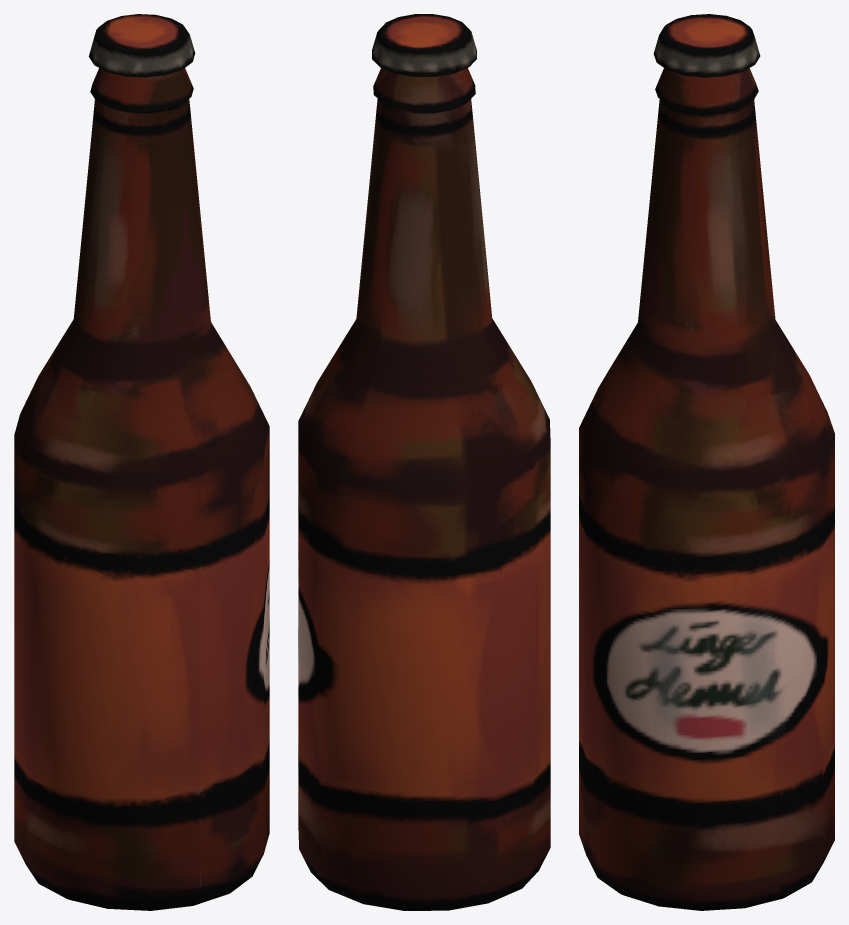
File: beer.glb
3 views of the same model, side by side, from view 1: azimuth 30°, elevation 25°; view 2: azimuth 150°, elevation 25°; view 3: azimuth 270°, elevation 25° (orthographic).
Parts seen in each view (by area): view 1: red lil; view 2: red lil; view 3: red lil.
Part boxes in pixels (bbox=[...]): red lil: bbox=[14, 14, 269, 910]; red lil: bbox=[298, 14, 550, 910]; red lil: bbox=[579, 14, 834, 910].
Bounding box in the file's own units: 0.0996 × 0.3574 × 0.0996.
Materials: 1 (1 with a texture image).
